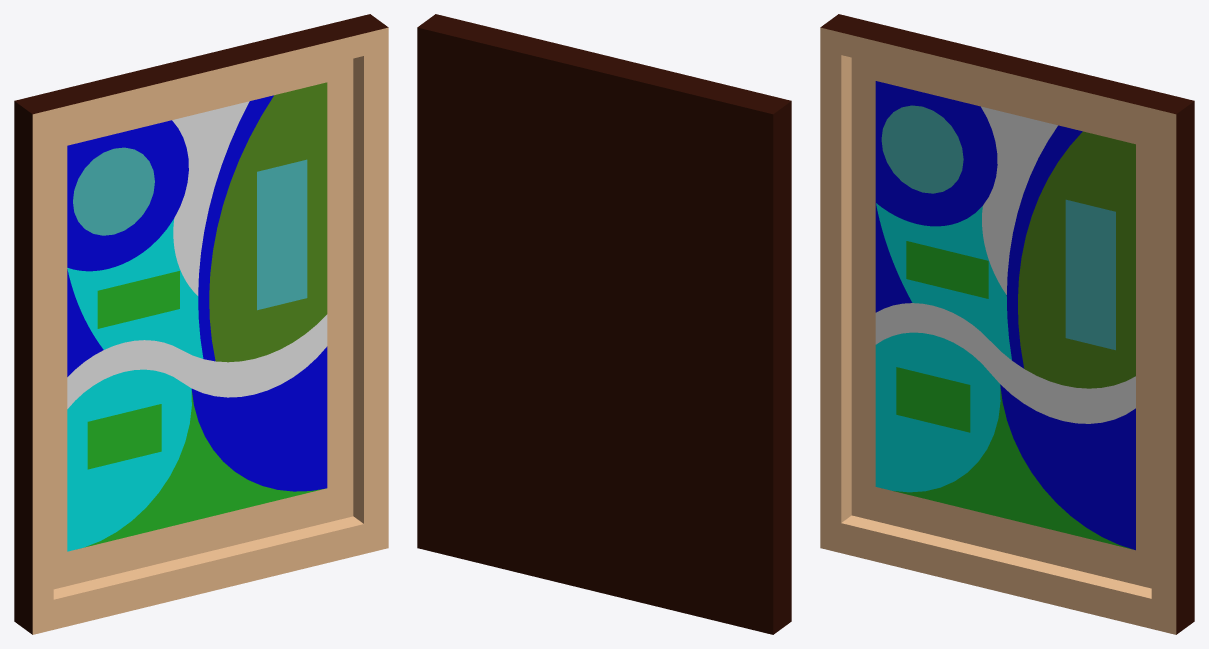
3 renders of one model, left to right at view 1: azimuth 30°, elevation 25°; view 2: azimuth 150°, elevation 25°; view 3: azimuth 330°, elevation 25°, orthographic.
Visible parts, largest first — view 1: SketchUp (×17); view 2: SketchUp; view 3: SketchUp (×17).
Boxes of the visible parts, box(x1,y1,x2,y2) form: SketchUp (×17): box(14, 14, 388, 634); SketchUp: box(417, 14, 791, 634); SketchUp (×17): box(820, 14, 1194, 634).
Bounding box in the file's own units: 19.5 × 1.75 × 27.25.
